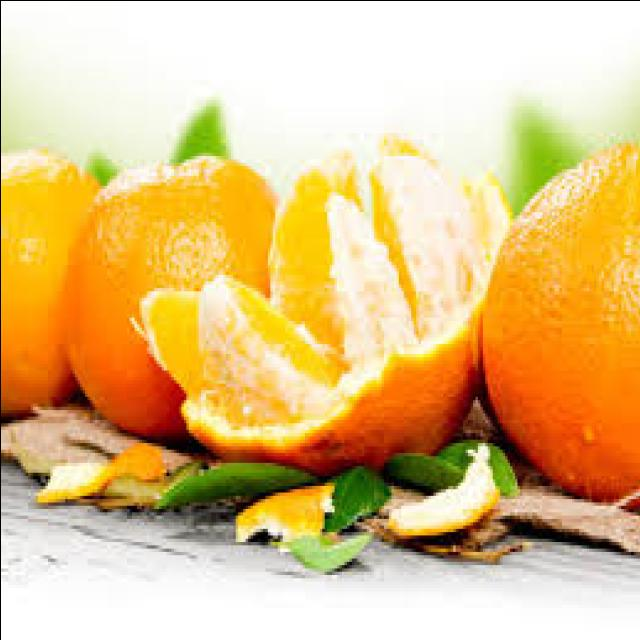orange: (58, 152, 266, 426)
